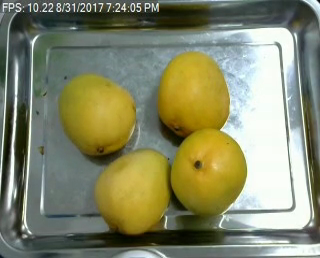Mango: (94, 147, 173, 236), (169, 129, 245, 215), (158, 51, 230, 139), (56, 74, 133, 155)
